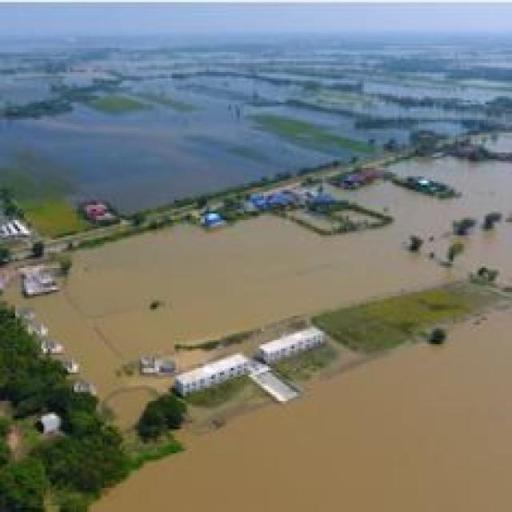flood: (16, 158, 512, 429), (79, 301, 512, 512), (0, 98, 462, 208), (176, 337, 276, 372), (209, 76, 303, 104), (363, 82, 503, 99), (354, 102, 463, 121), (0, 74, 54, 104), (148, 78, 192, 98)
house: (177, 354, 249, 401), (261, 328, 332, 362)
